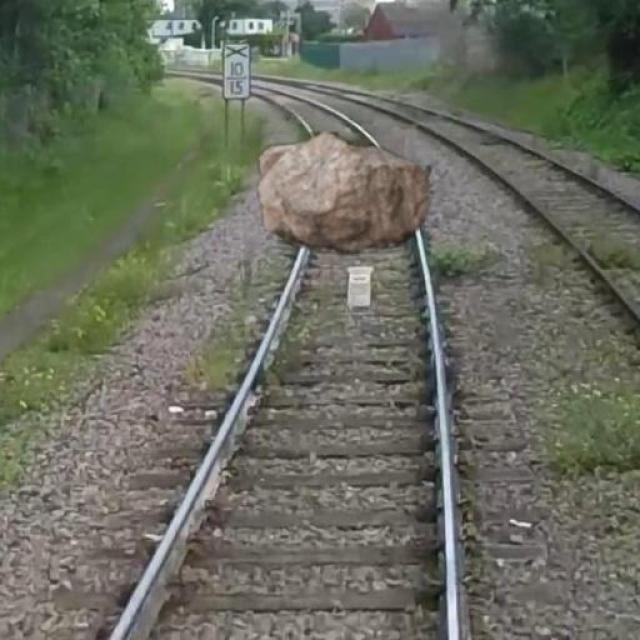Stone: (255, 127, 446, 256)
